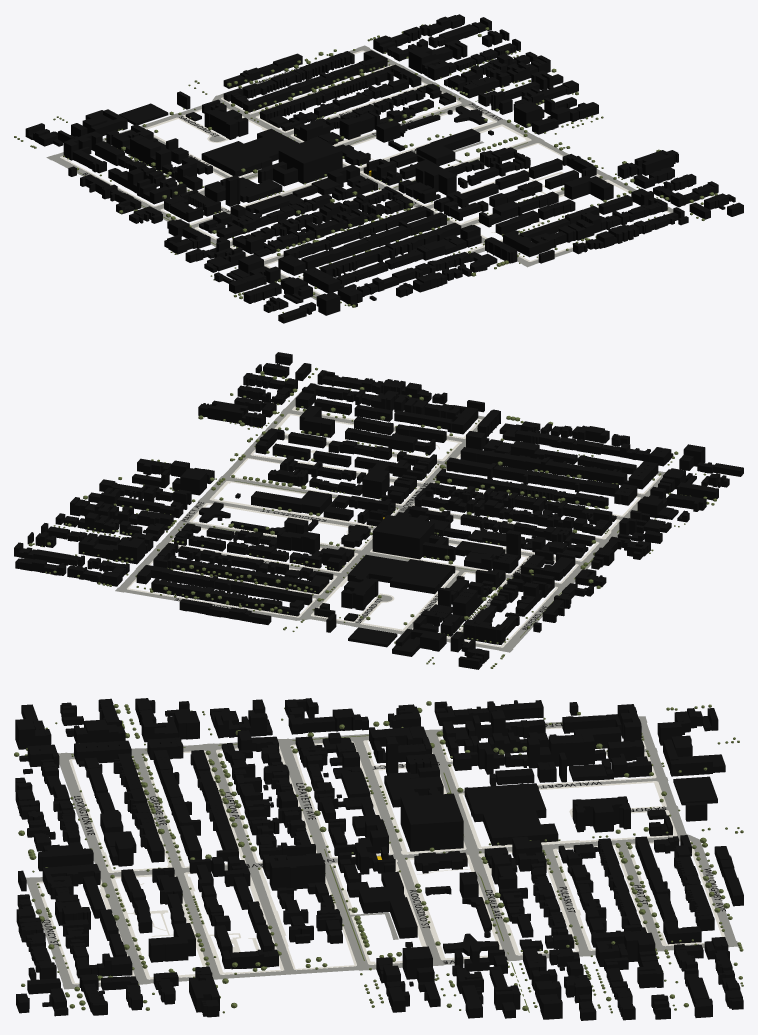
The model's file is nostrand_neighborhood.glb.
3 views of the same model, one above another, from view 1: azimuth 30°, elevation 25°; view 2: azimuth 150°, elevation 25°; view 3: azimuth 270°, elevation 25° (orthographic). The views are drawn at different scales.
Parts seen in each view (by area): view 1: BROOKLYN_MASSING, ROADBED, SIDEWALK, TREES; view 2: BROOKLYN_MASSING, ROADBED, SIDEWALK, TREES; view 3: BROOKLYN_MASSING, ROADBED, SIDEWALK, TREES.
Boxes of the visible parts, x1,y1,x2,y2 form: BROOKLYN_MASSING: (25,14,743,323); ROADBED: (46,45,673,300); SIDEWALK: (60,50,670,294); TREES: (14,24,717,313); BROOKLYN_MASSING: (14,352,743,669); ROADBED: (115,386,665,652); SIDEWALK: (127,406,661,647); TREES: (28,367,716,668); BROOKLYN_MASSING: (15,698,743,1020); ROADBED: (26,716,738,989); SIDEWALK: (36,727,726,984); TREES: (14,701,743,1013).
Size of what is drawn, in the model's own units: 805 by 46.01 by 801.
